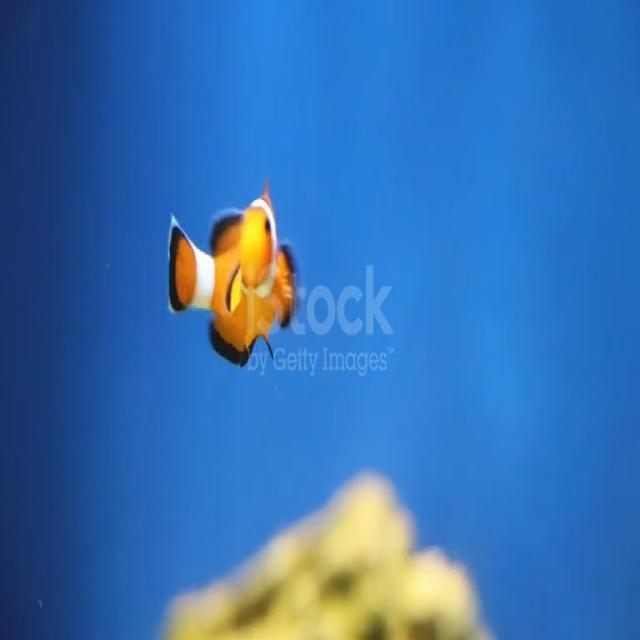fish: (166, 169, 300, 368)
